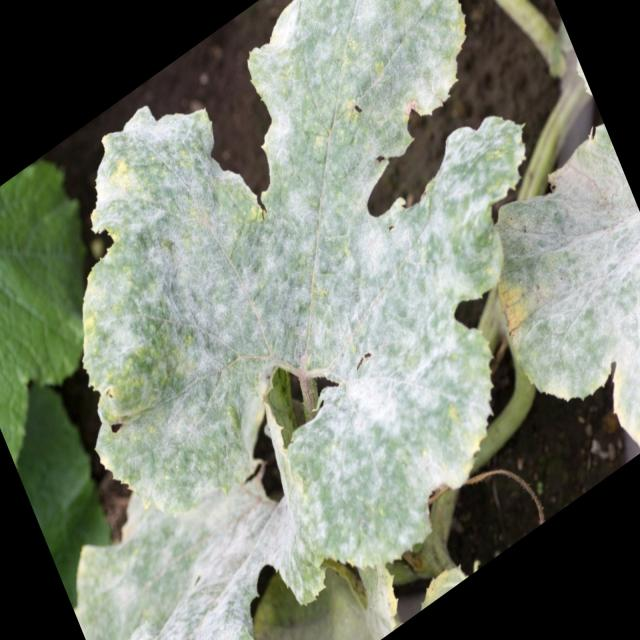Powdery Mildew: (78, 1, 528, 632), (494, 121, 638, 448)
